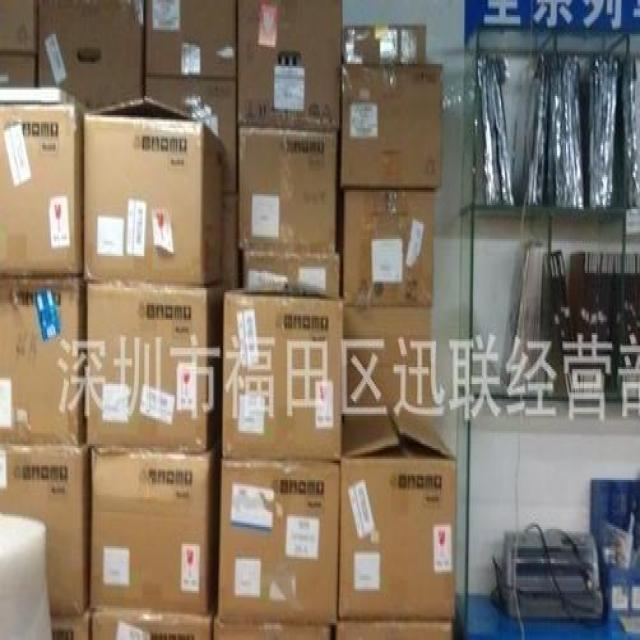box: (74, 100, 224, 290), (335, 424, 459, 623), (82, 285, 224, 455), (214, 442, 342, 630), (86, 440, 219, 616), (218, 282, 346, 462), (0, 435, 92, 616), (229, 0, 351, 132), (234, 116, 342, 264), (0, 270, 85, 456), (0, 95, 78, 289), (338, 50, 439, 188), (337, 182, 435, 316), (35, 0, 148, 108), (142, 0, 233, 83)
